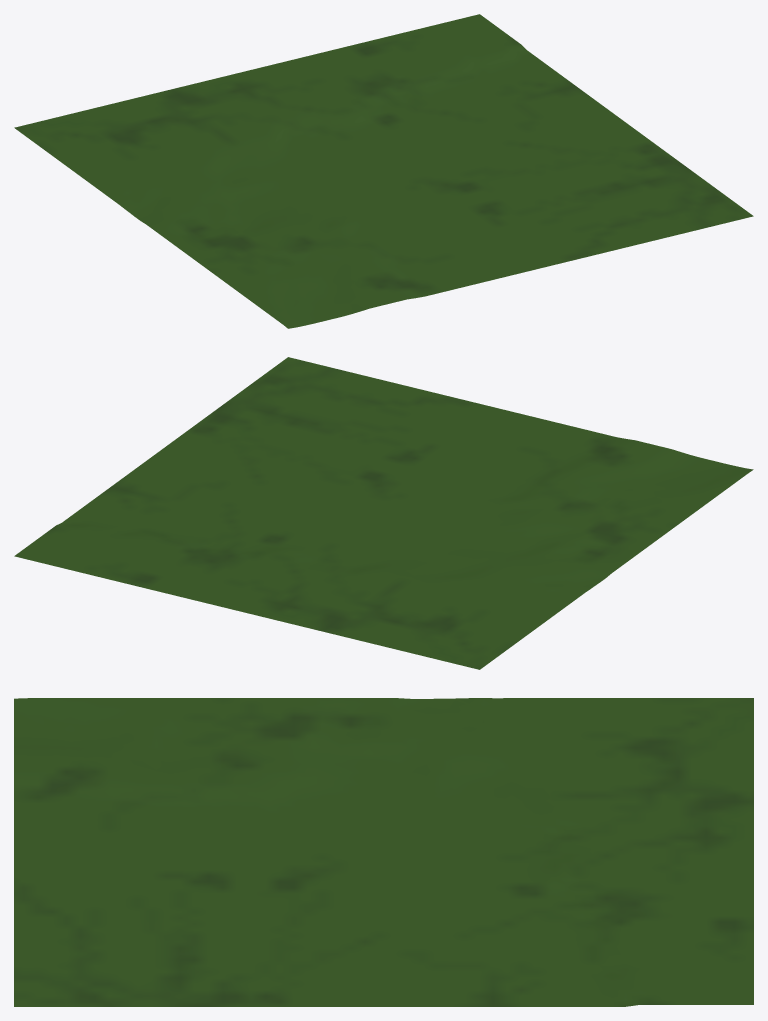
File: chunk5-16_LOD0.obj
The picture shows the model from 3 angles, top to bottom: view 1: azimuth 30°, elevation 25°; view 2: azimuth 150°, elevation 25°; view 3: azimuth 270°, elevation 25°; orthographic projection. The views are drawn at different scales.
Visible parts, largest first — view 1: chunk_5_16_LOD0; view 2: chunk_5_16_LOD0; view 3: chunk_5_16_LOD0.
Boxes of the visible parts, box(x1,y1,x2,y2) form: chunk_5_16_LOD0: box(14, 14, 753, 328); chunk_5_16_LOD0: box(14, 357, 753, 669); chunk_5_16_LOD0: box(14, 698, 753, 1006).
Bounding box in the file's own units: 1994 × 6 × 2033.
1 material, 1 textured.
